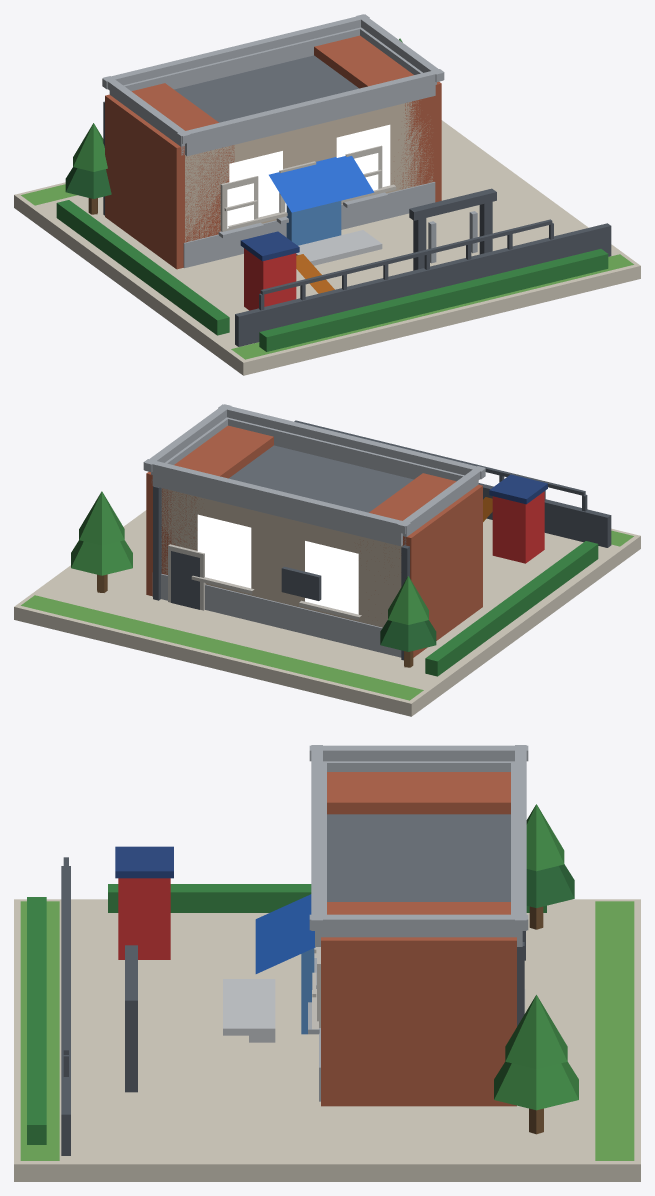
The picture shows the model from 3 angles, top to bottom: view 1: azimuth 30°, elevation 25°; view 2: azimuth 150°, elevation 25°; view 3: azimuth 270°, elevation 25°; orthographic projection. The views are drawn at different scales.
Visible parts, largest first — view 1: b28; view 2: b28; view 3: b28.
Part boxes in pixels (left/top/right/bottom): b28: left=14, top=14, right=640, bottom=375; b28: left=14, top=404, right=640, bottom=716; b28: left=14, top=745, right=640, bottom=1181.
Bounding box in the file's own units: 0.96 × 0.343 × 0.96.
